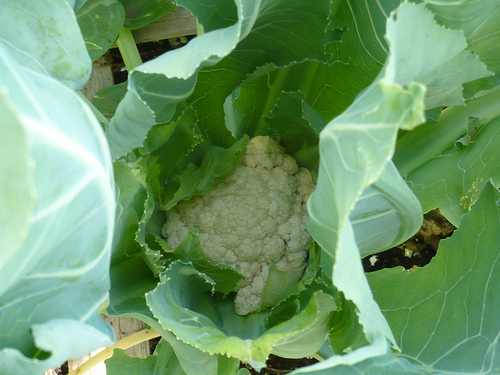cauliflower: (154, 135, 316, 314)
